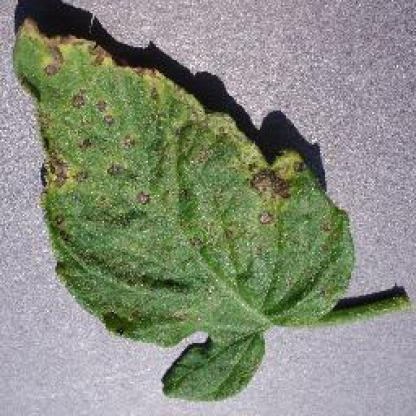bad leaf: (11, 0, 415, 415)
